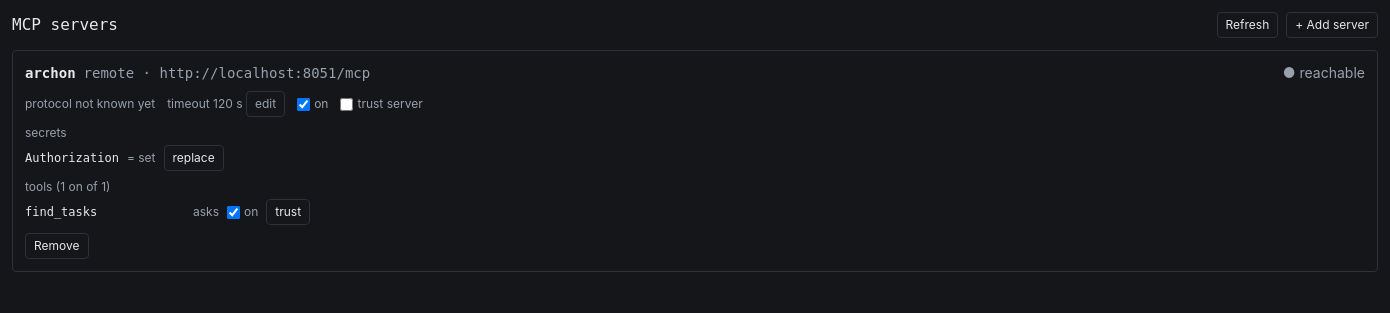
Test: timeout edit sends a number and shows a 422 reason inline
Click the button with aria-label "edit timeout" at (266, 104), box [246, 91, 285, 117]
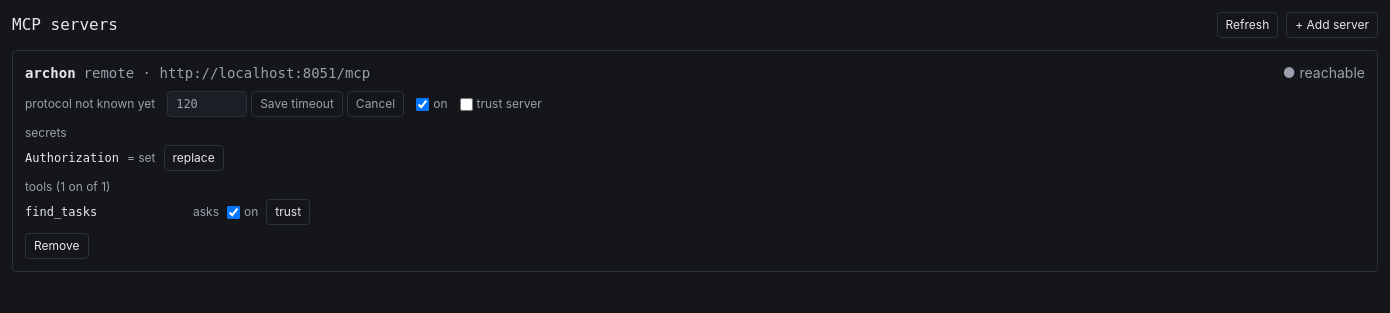
Replace the text in the number field named "Timeout seconds" with "9999" at (207, 104), box [167, 91, 247, 117]
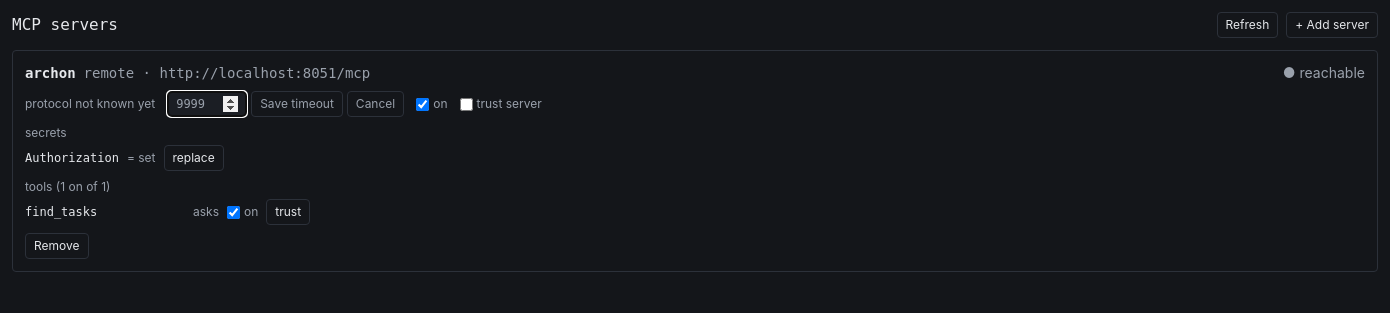
Click the button "Save timeout" at (297, 104), box [251, 91, 343, 117]
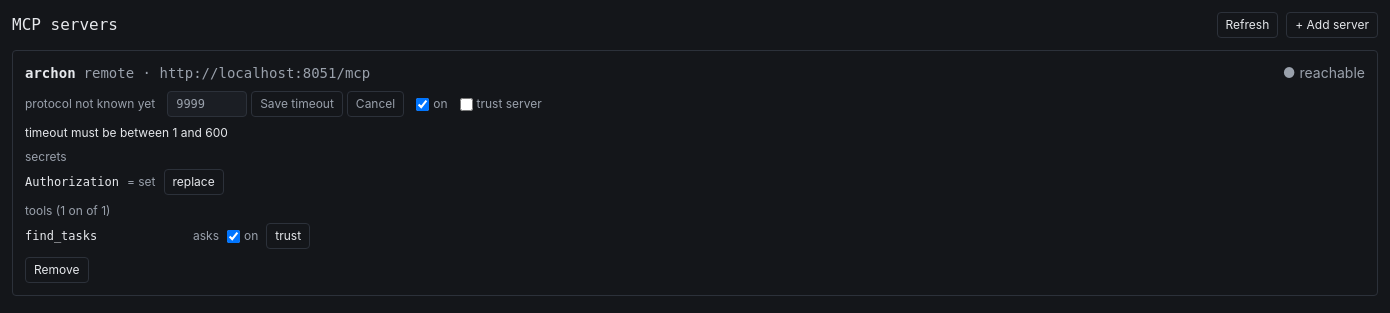
Expected: the text "timeout must be between 1 and 600" is shown, [25, 125, 228, 140]
